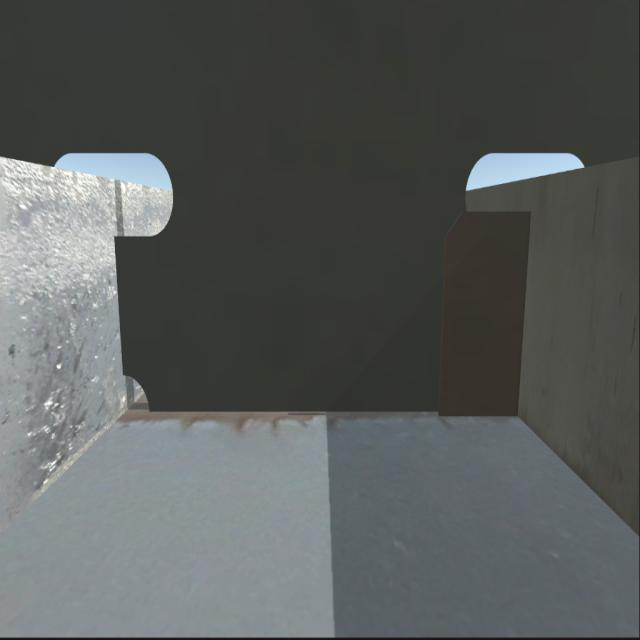fillet_hole: (119, 366, 150, 413)
fillet_yong_jeop_jang: (146, 405, 520, 423)
longi_yong_jeop_jang: (508, 215, 534, 418), (110, 230, 130, 374)
plate_CP03: (434, 212, 526, 420)
